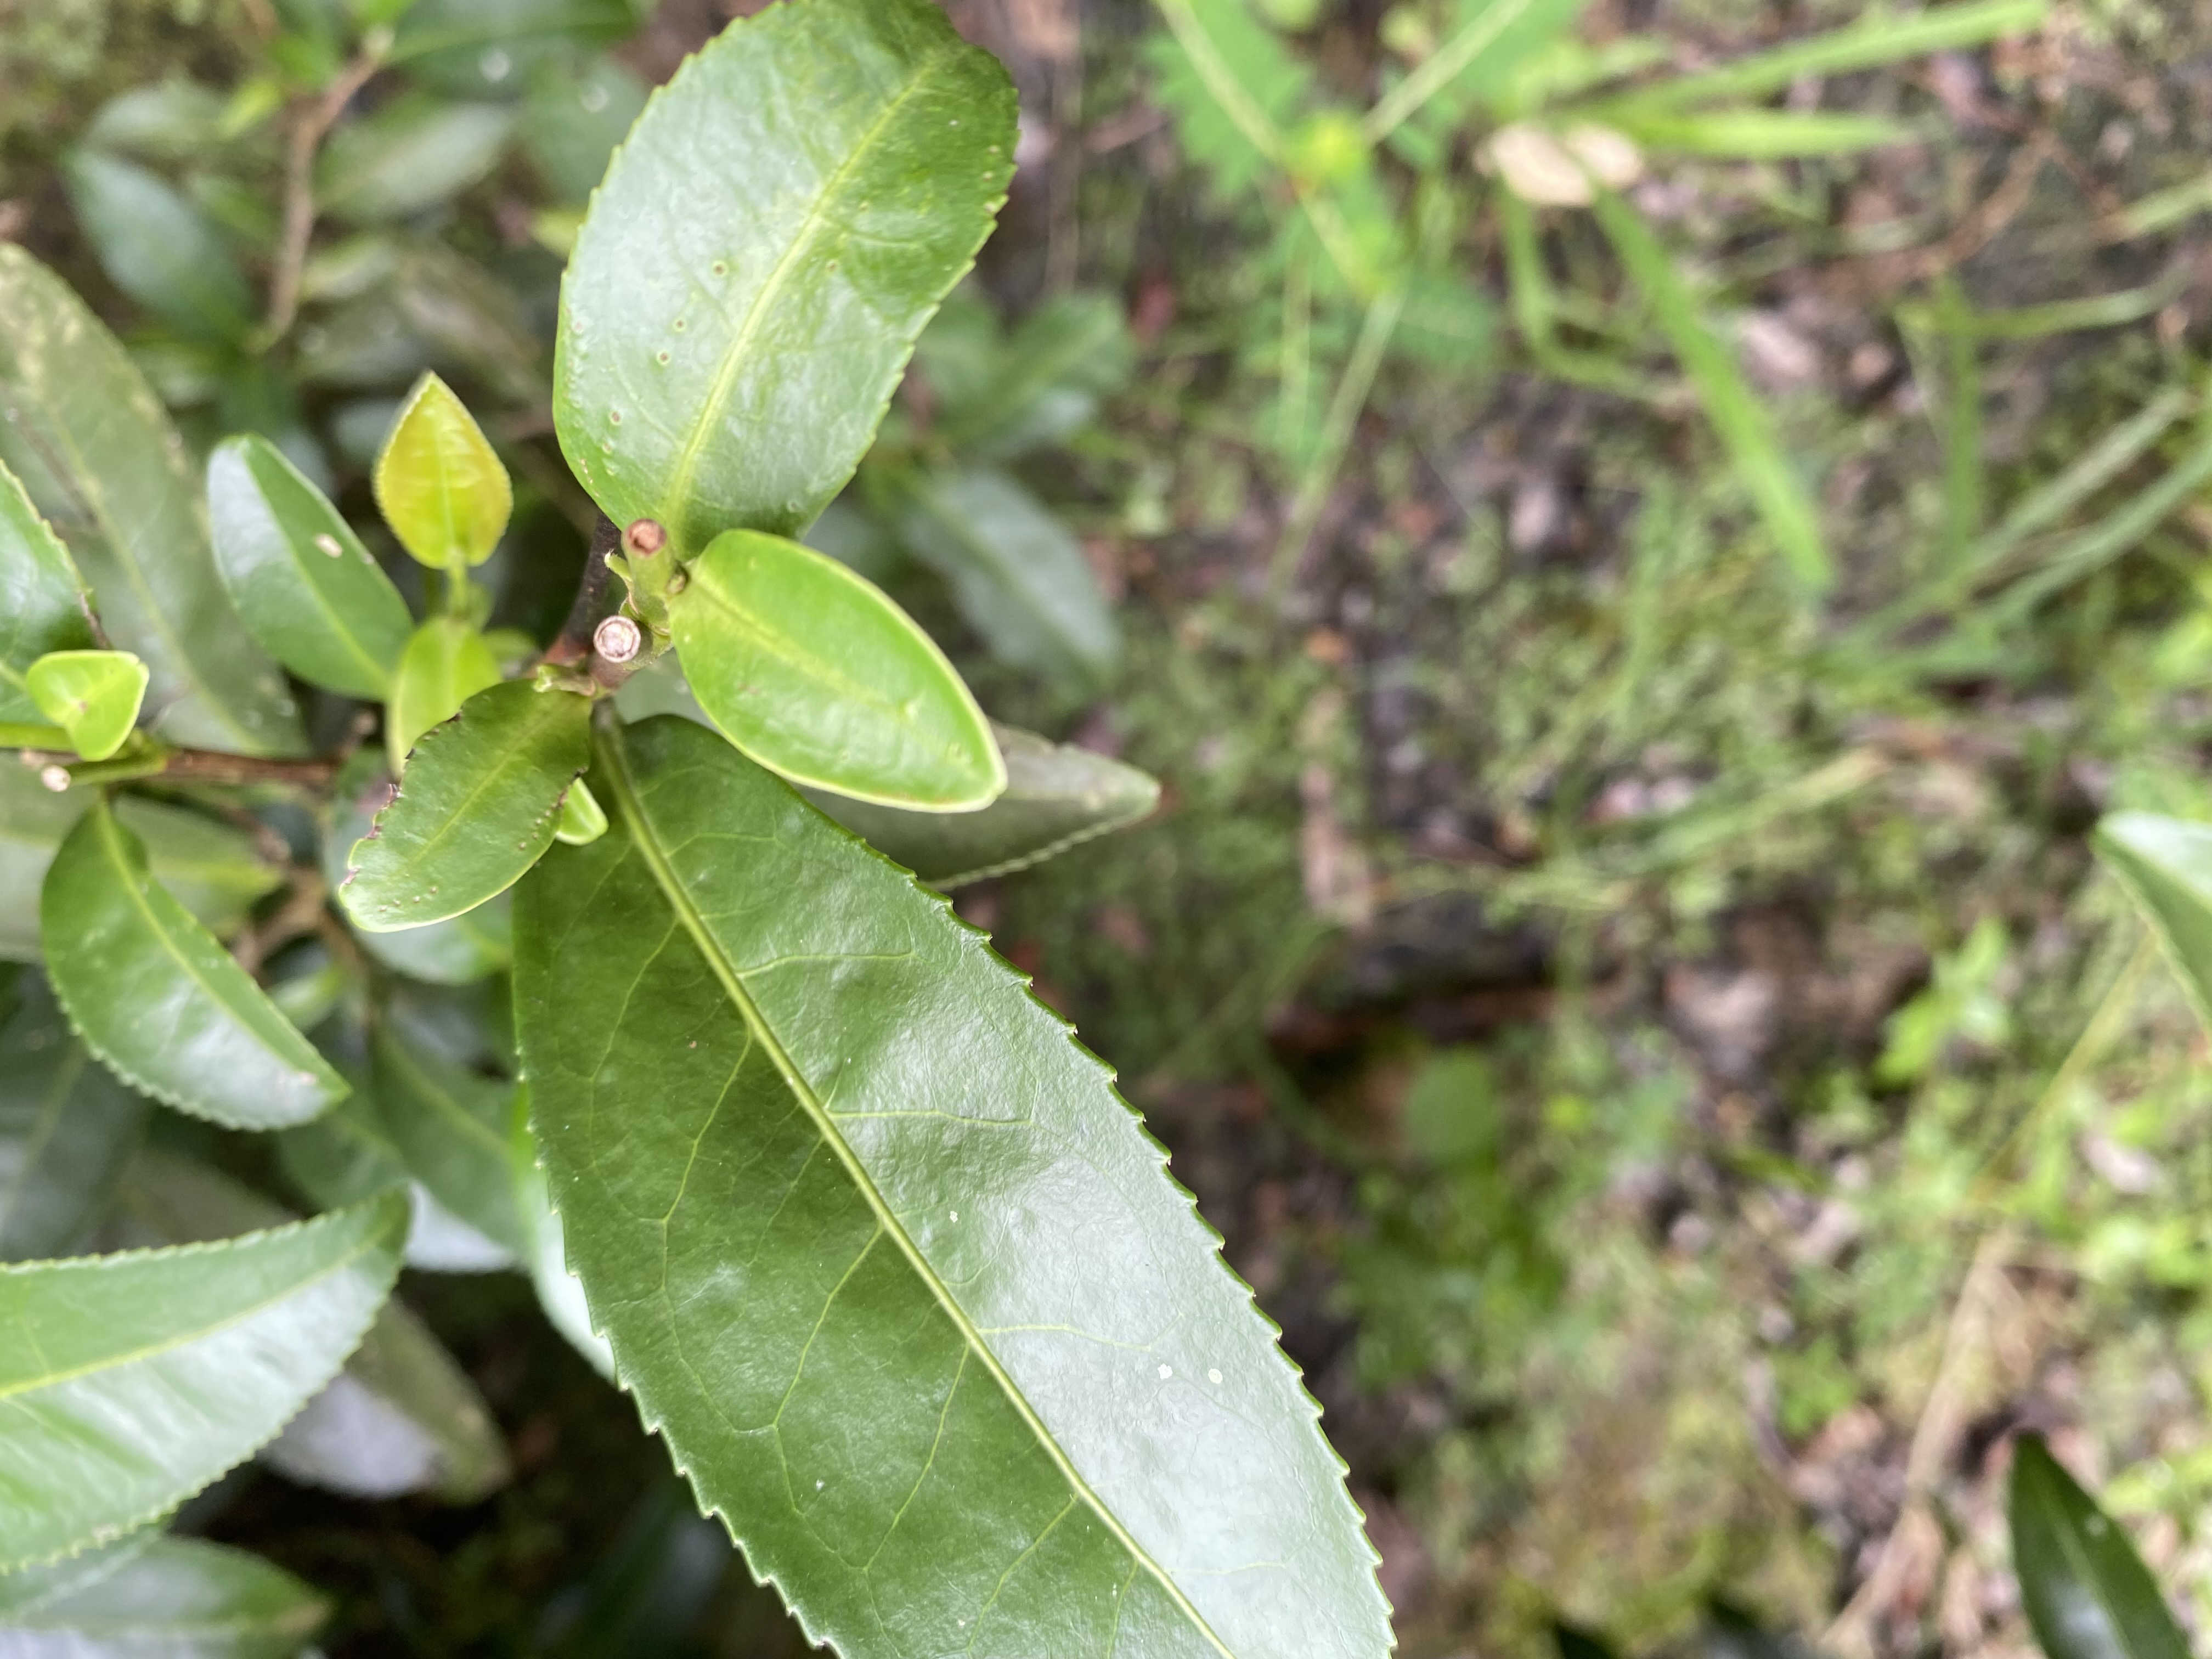chihuo_high: (334, 671, 592, 931)
healthy: (512, 721, 1397, 1656), (3, 1190, 421, 1572), (671, 532, 1003, 809)
tanju_low: (373, 375, 512, 563)
